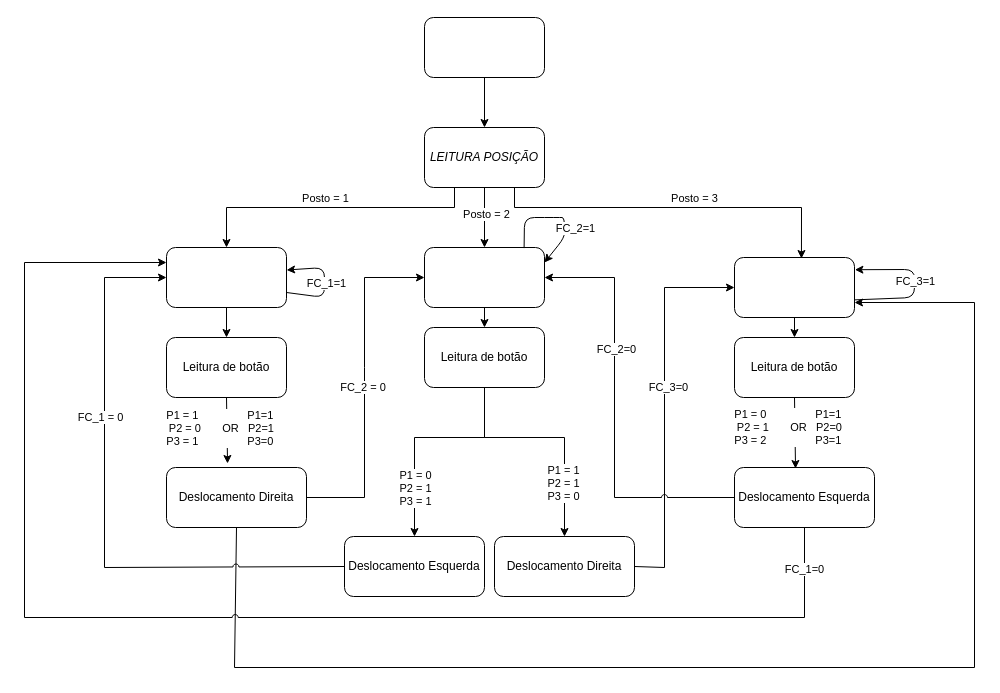
Some shapes in this 1000 by 693 pixel diagram are drawn without their labels. The shapes that lost their labels are listed below. From the top down, each one's centre as x and y in pixels, then its label:
At (484,47): "INÍCIO".
At (226,277): "J1".
At (484,277): "J2".
At (794,287): "J3".
